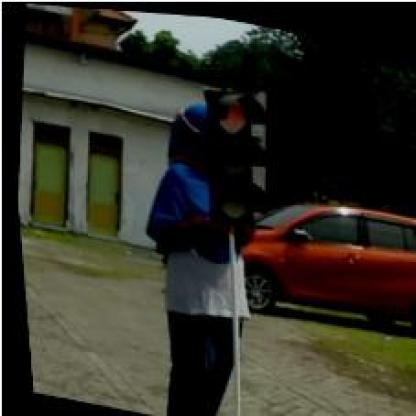red: (187, 81, 278, 227)
